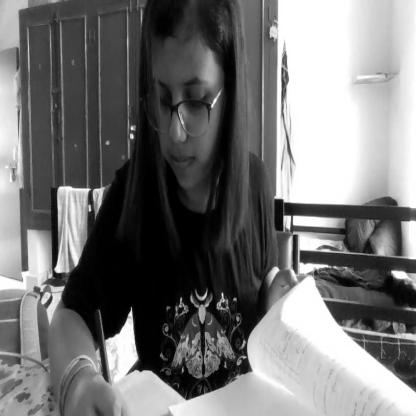Distracted: (142, 1, 230, 200)
